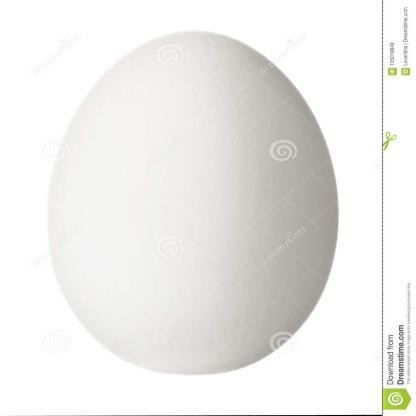egg: (44, 27, 340, 380)
